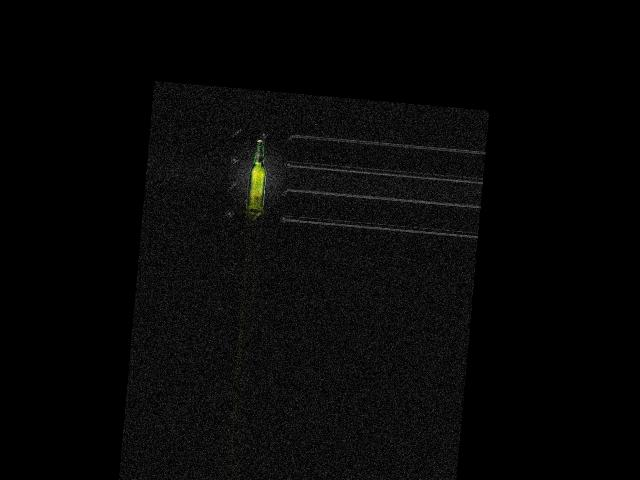beer: (246, 139, 269, 212)
